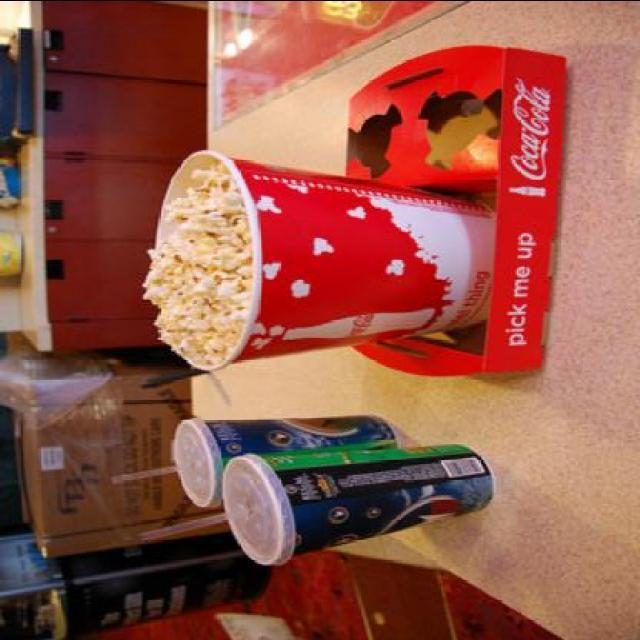Popcorn: (140, 164, 254, 364)
